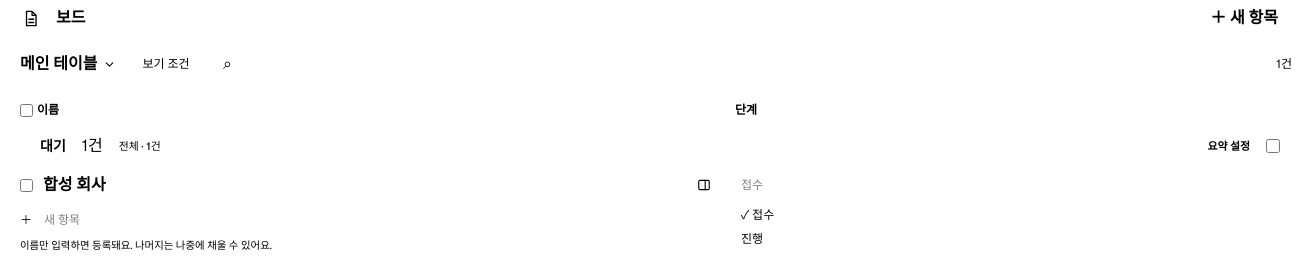
Test: Issue 857 — 칸 저장은 그 행만 고친다 › 서버가 거절하면 원래 값으로 돌아가고 칸 아래에 사유가 보인다
This screenshot has width=1304, height=277.
Step 1. Click the button "진행" → (752, 239), box [741, 231, 1276, 247]
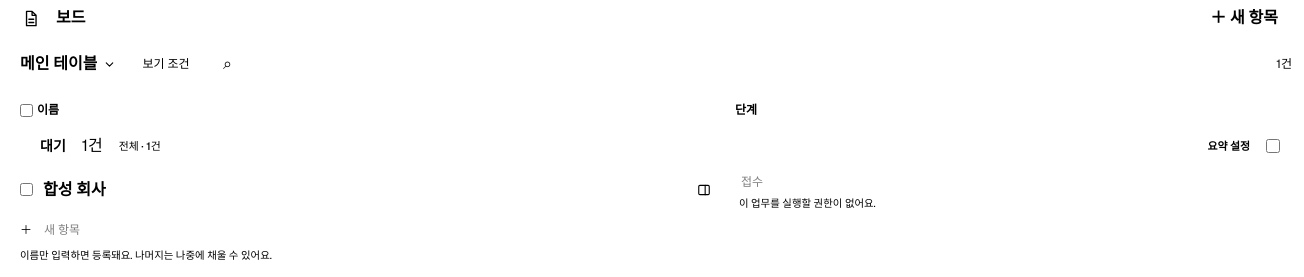
expect the text "이 업무를 실행할 권한이 없어요." is shown: met, box [739, 197, 876, 210]
